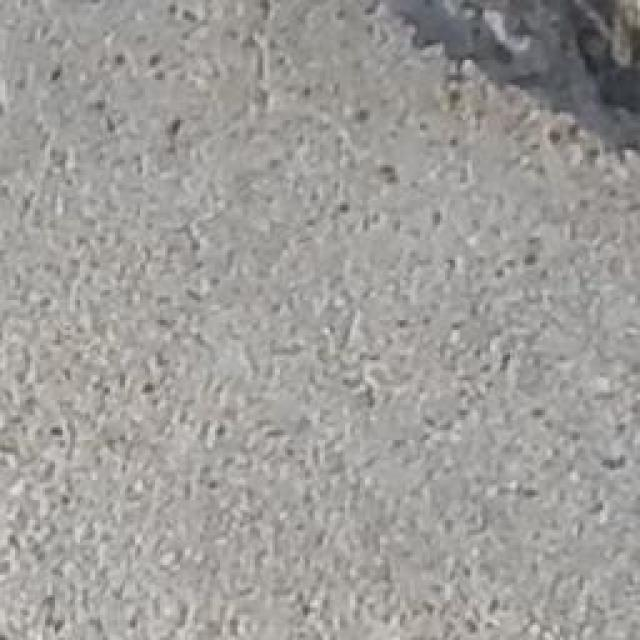concrete-crack: (368, 0, 640, 173)
